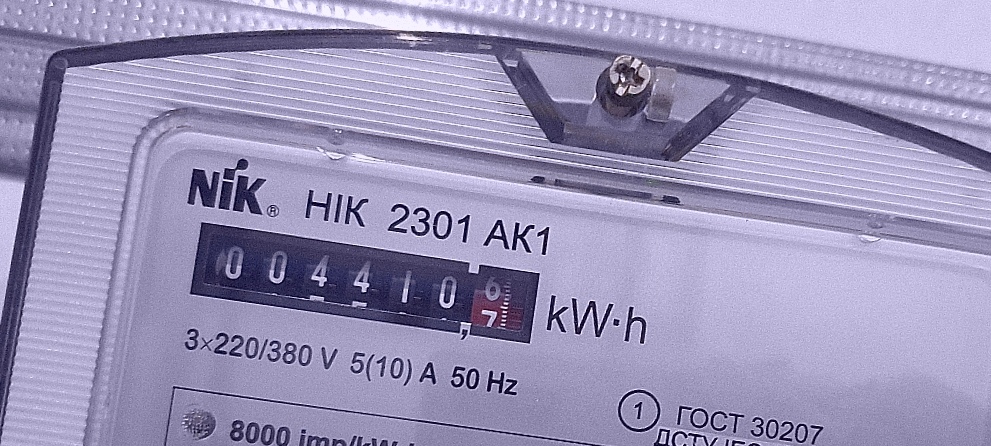0: (220, 241, 246, 282), (435, 272, 459, 311), (265, 246, 288, 286)
1: (395, 266, 414, 305)
4: (306, 248, 333, 289), (348, 256, 375, 297)
6: (483, 274, 504, 302)
7: (477, 307, 498, 328)
screen: (176, 208, 554, 357)
